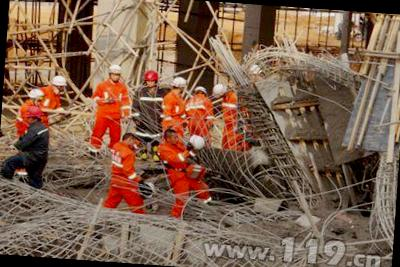no_helmet: (119, 130, 143, 150), (162, 122, 182, 146)
